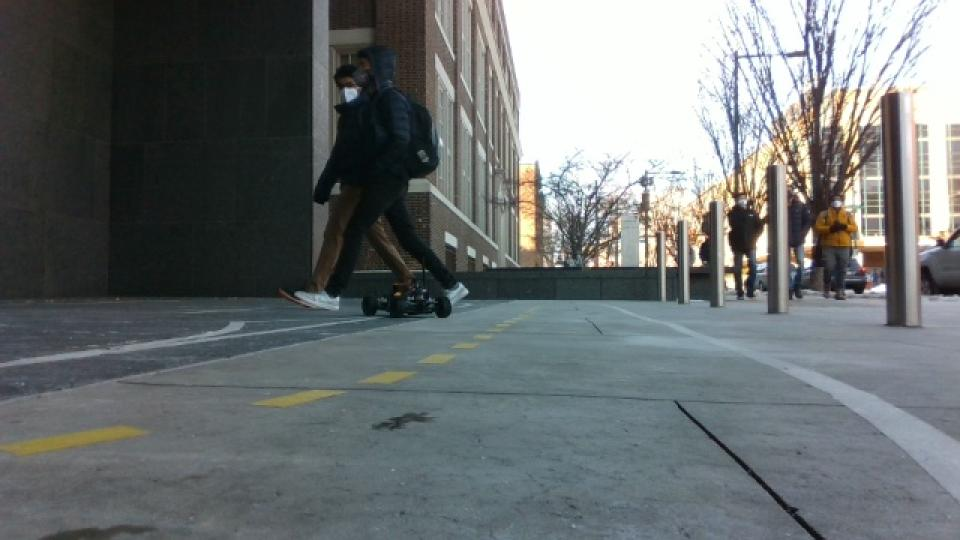car: (357, 258, 455, 321)
